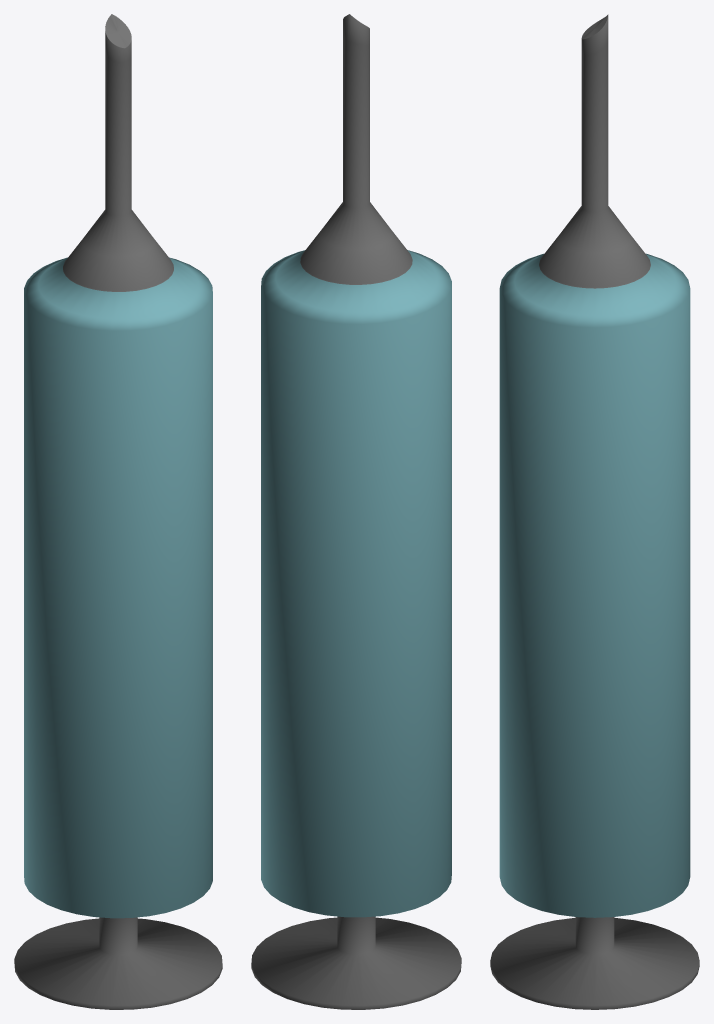
File: Vaccine_001.fbx
The picture shows the model from 3 angles, left to right: view 1: azimuth 30°, elevation 25°; view 2: azimuth 150°, elevation 25°; view 3: azimuth 270°, elevation 25°; orthographic projection.
Visible parts, largest first — view 1: Cylinder; view 2: Cylinder; view 3: Cylinder.
Part boxes in pixels (x1,y1,x2,y2): Cylinder: (14,14,222,1009); Cylinder: (251,14,461,1009); Cylinder: (490,14,699,1009).
Bounding box in the file's own units: 17.99 × 90.12 × 17.99.
